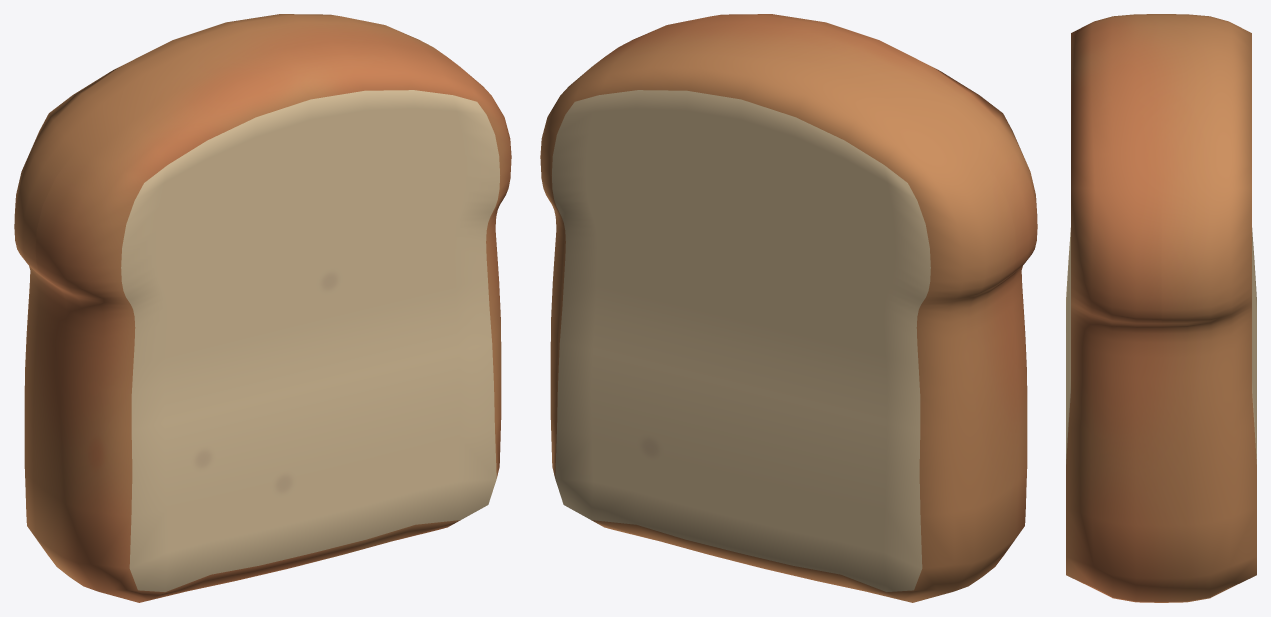
File: Food_bread.fbx
3 views of the same model, side by side, from view 1: azimuth 30°, elevation 25°; view 2: azimuth 150°, elevation 25°; view 3: azimuth 270°, elevation 25° (orthographic). The views are drawn at different scales.
Visible parts, largest first — view 1: Bread; view 2: Bread; view 3: Bread.
Part boxes in pixels (box(x1,y1,x2,y2)): Bread: box(14, 14, 511, 602); Bread: box(540, 14, 1037, 602); Bread: box(1066, 14, 1256, 602).
Bounding box in the file's own units: 92.74 × 100 × 35.46.
